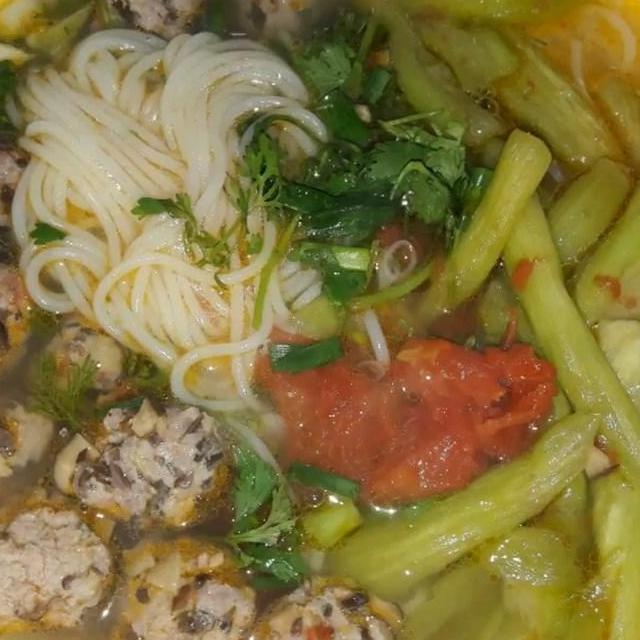bun: (0, 13, 353, 424)
vien moc: (48, 385, 253, 549), (100, 517, 272, 640), (0, 490, 122, 640), (19, 318, 159, 417), (242, 565, 414, 640), (0, 241, 57, 395), (0, 382, 68, 507), (84, 0, 230, 42), (0, 114, 42, 256), (218, 0, 336, 36)
